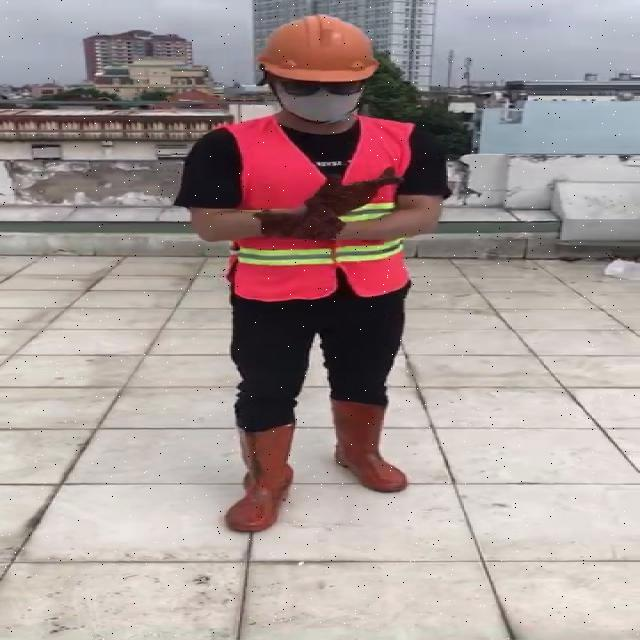Hard_hat: (252, 10, 383, 83)
Vest: (223, 113, 406, 311)
